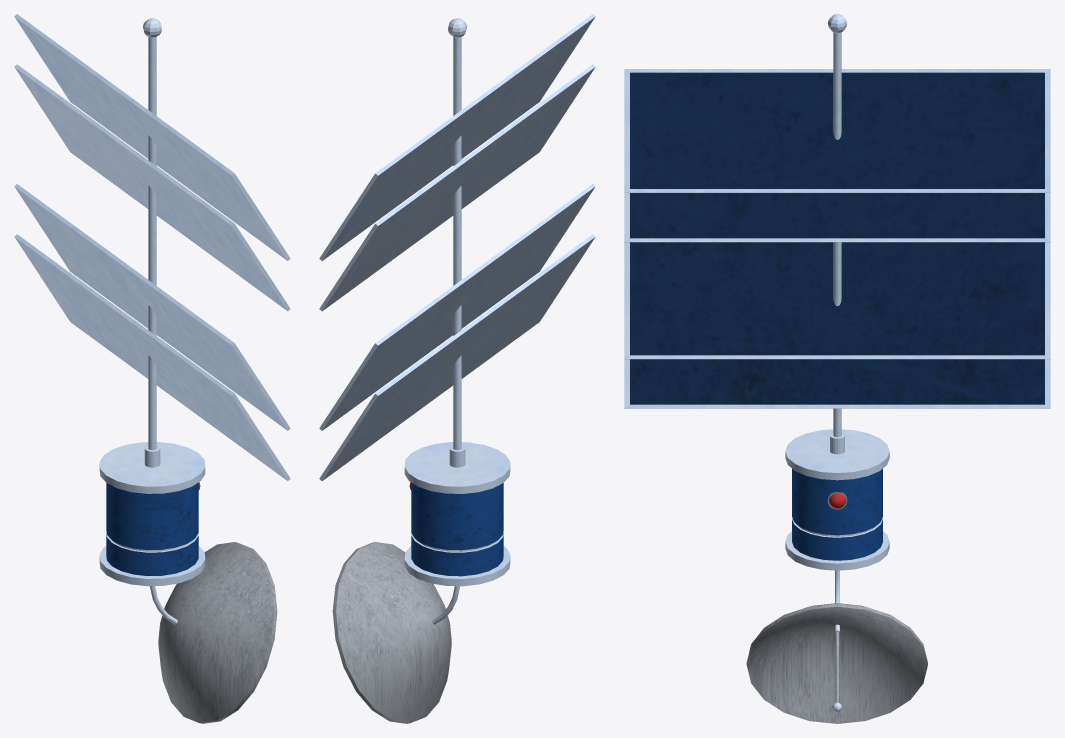
The model's file is Satellite1.fbx.
The picture shows the model from 3 angles, left to right: view 1: azimuth 30°, elevation 25°; view 2: azimuth 150°, elevation 25°; view 3: azimuth 270°, elevation 25°; orthographic projection. The views are drawn at different scales.
Visible parts, largest first — view 1: polySurface1; view 2: polySurface1; view 3: polySurface1.
Boxes of the visible parts, left/top/right/bottom form: polySurface1: left=14, top=14, right=290, bottom=723; polySurface1: left=319, top=14, right=595, bottom=723; polySurface1: left=624, top=14, right=1050, bottom=723.
Bounding box in the file's own units: 25.36 × 105 × 58.42.
1 material, 1 textured.
